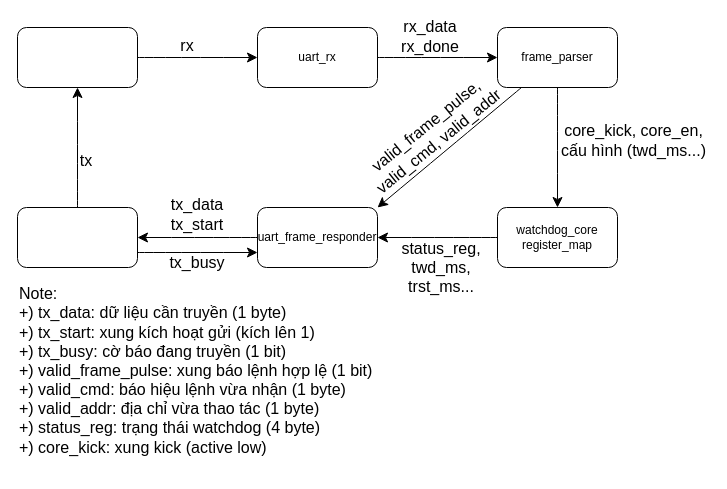
This 727x489 diagram has some shape labels left out. The centre of each missing label's shape, as x and y in pixels:
PC: point 77,57
uart_tx: point 77,237
